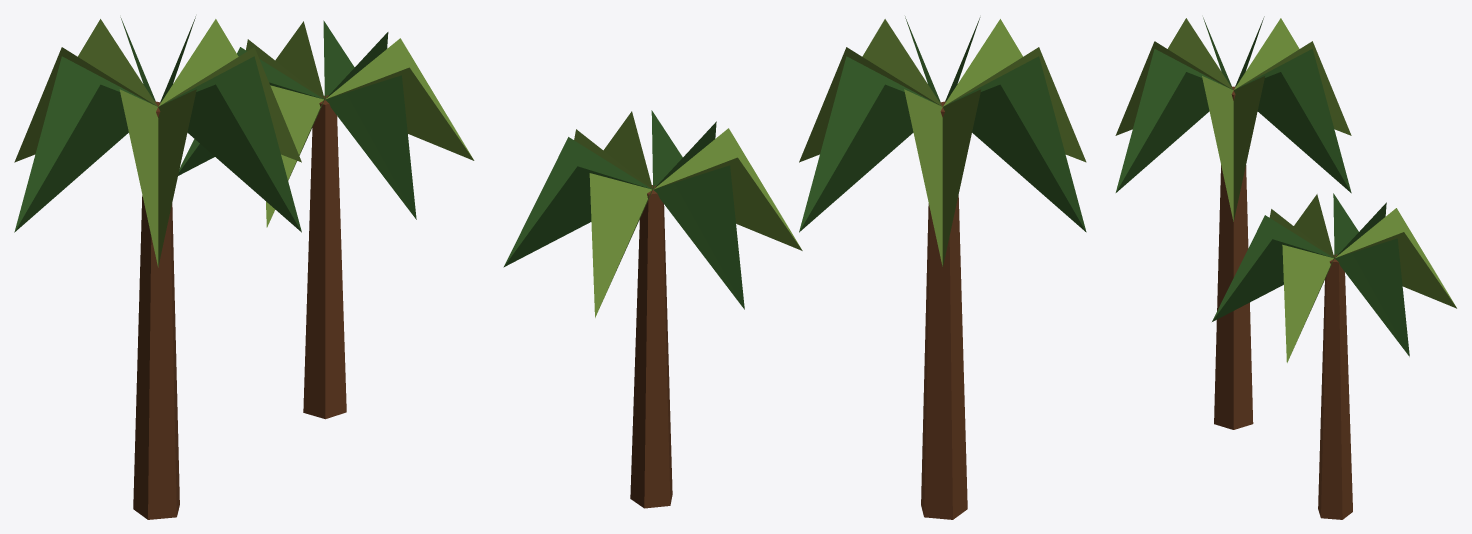
File: PalmPair.fbx
3 views of the same model, side by side, from view 1: azimuth 30°, elevation 25°; view 2: azimuth 150°, elevation 25°; view 3: azimuth 270°, elevation 25° (orthographic). The views are drawn at different scales.
Visible parts, largest first — view 1: PalmPair; view 2: PalmPair; view 3: PalmPair.
Boxes of the visible parts, box(x1,y1,x2,y2) form: PalmPair: box(14, 16, 474, 519); PalmPair: box(503, 16, 1086, 519); PalmPair: box(1115, 16, 1456, 519).
Size of the model in its own units: 97.2 by 86.45 by 71.16.
